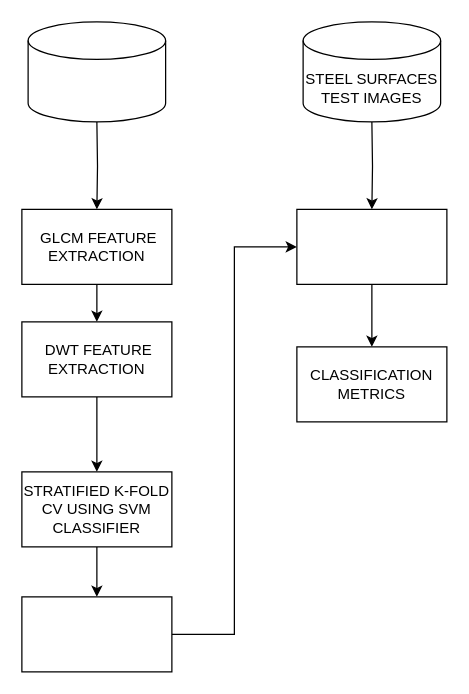
Image size: 469x694. Some labels were removed from this diagram. Each missing label, with the centre of its shape:
MODEL EVALUATION: [371,246]
STEEL SURFACES TRAINING IMAGES: [96,71]
SVM'S HYPER-PARAMETER SELECTION: [96,634]
